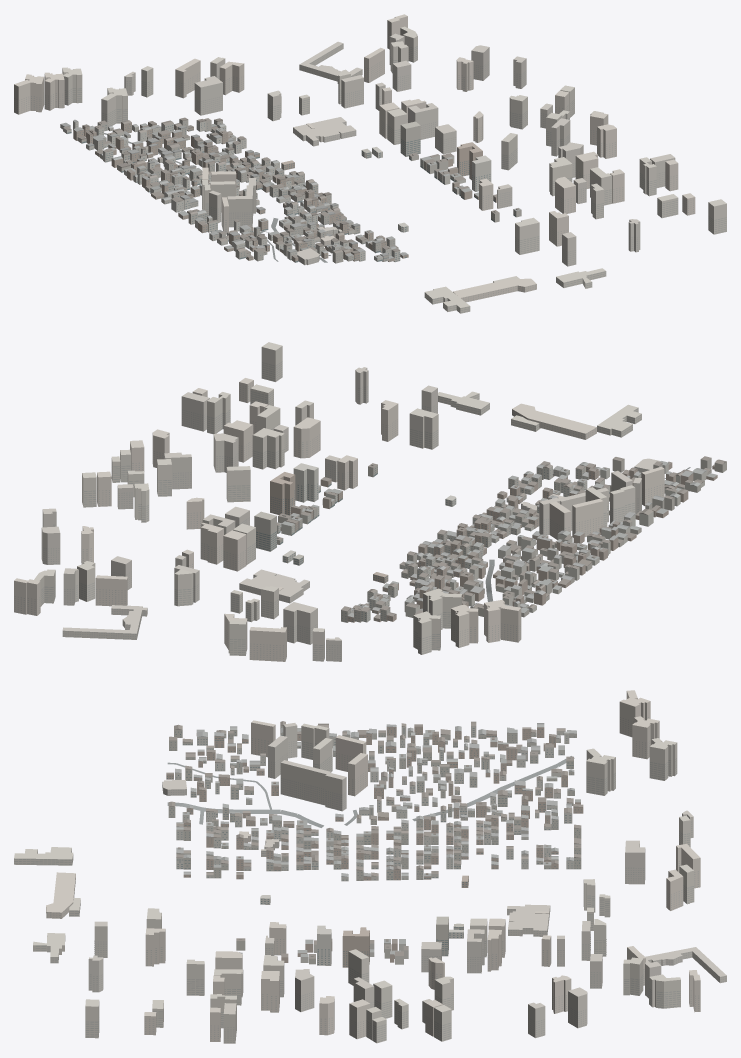
The picture shows the model from 3 angles, top to bottom: view 1: azimuth 30°, elevation 25°; view 2: azimuth 150°, elevation 25°; view 3: azimuth 270°, elevation 25°; orthographic projection. The views are drawn at different scales.
Parts seen in each view (by area): view 1: context; view 2: context; view 3: context.
Part boxes in pixels (x1=…): context: x1=14, y1=14, x2=726, y2=313; context: x1=14, y1=342, x2=726, y2=661; context: x1=14, y1=690, x2=726, y2=1043.
Size of the model in its own units: 825 by 135 by 951.
